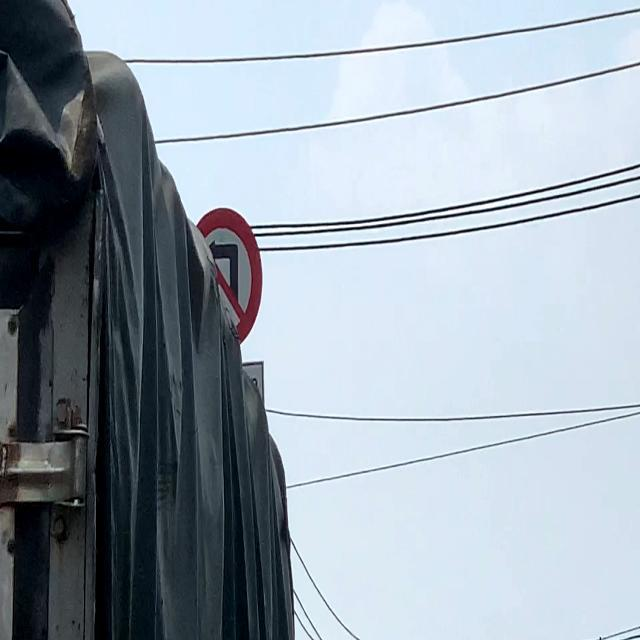123a-cam-re-trai: (196, 205, 264, 346)
